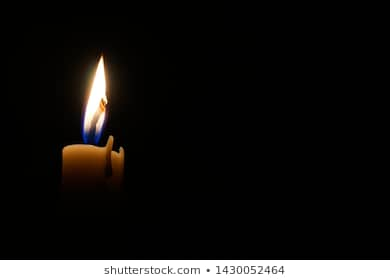Fire: (80, 53, 114, 137)
